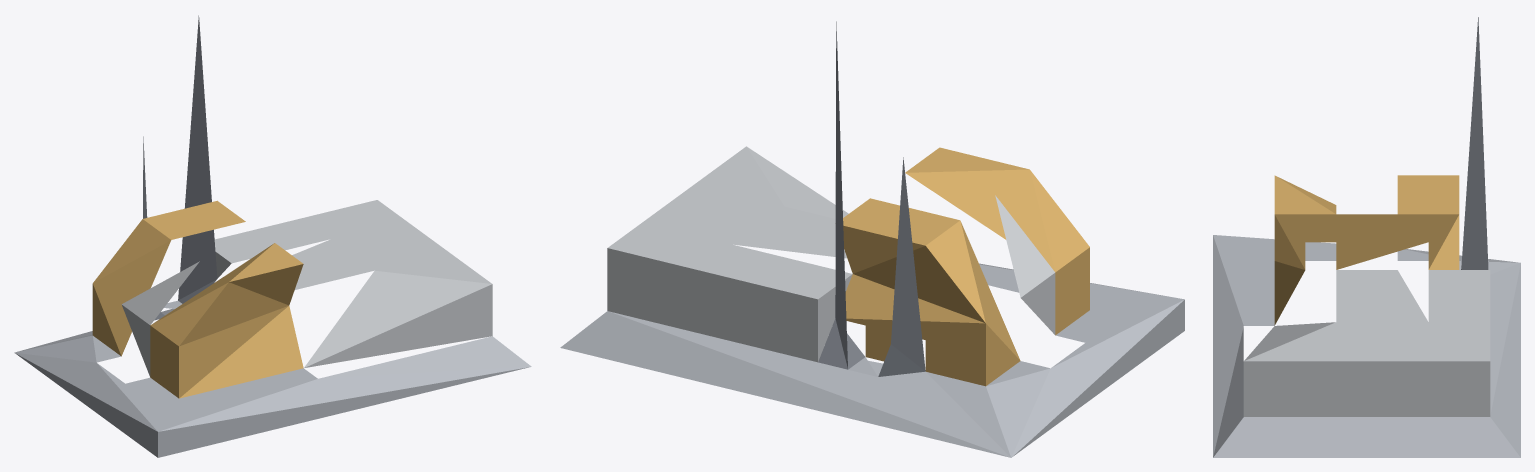
The model's file is machine_wireless.lod.glb.
The picture shows the model from 3 angles, left to right: view 1: azimuth 30°, elevation 25°; view 2: azimuth 150°, elevation 25°; view 3: azimuth 270°, elevation 25°; orthographic projection. The views are drawn at different scales.
Parts seen in each view (by area): view 1: machine_wireless; view 2: machine_wireless; view 3: machine_wireless.
Part boxes in pixels (x1,y1,x2,y2): machine_wireless: (14,15,531,457); machine_wireless: (560,21,1184,457); machine_wireless: (1213,17,1520,457).
Size of the model in its own units: 0.75 by 0.6 by 0.5.
